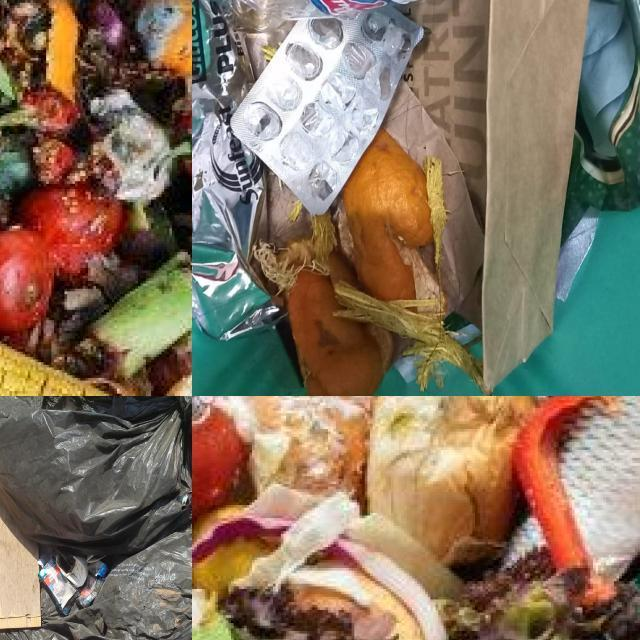Garbage: (192, 0, 640, 396), (192, 396, 640, 640), (0, 396, 192, 640)
Plastic: (231, 6, 422, 215)
Plastic_Bag: (0, 396, 192, 556), (192, 0, 280, 339), (563, 0, 640, 239), (48, 434, 51, 437)
